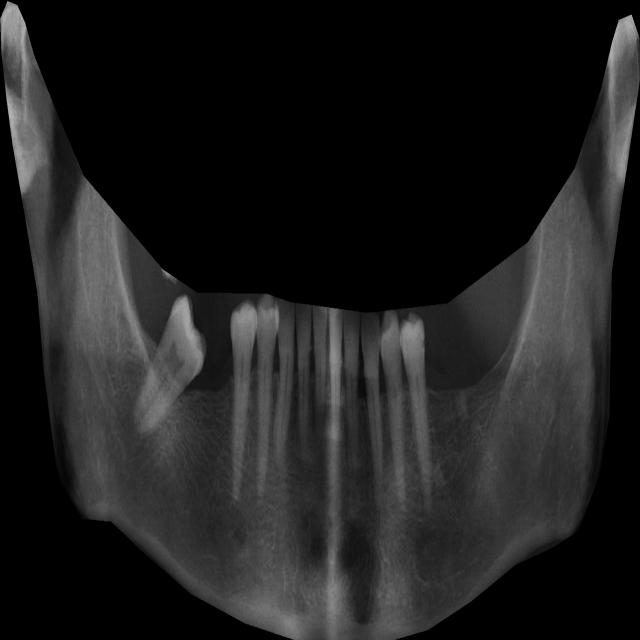mandibula: (0, 1, 640, 640)
